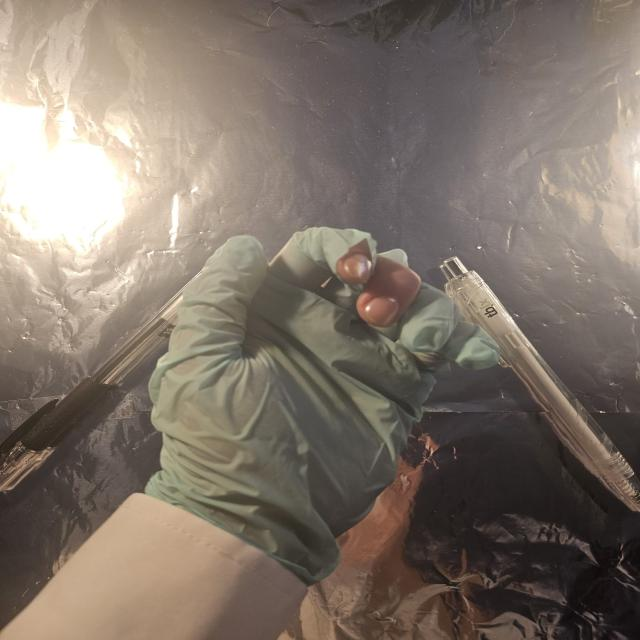gloves_damaged: (140, 223, 503, 588)
